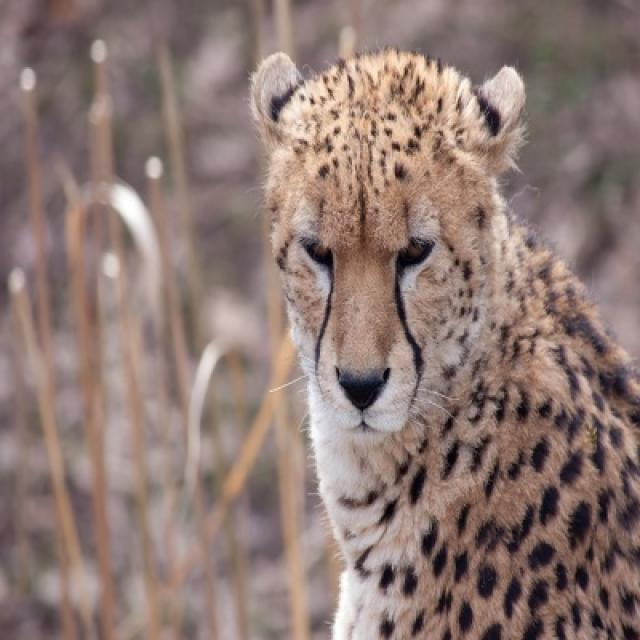Cheetah: (246, 48, 638, 638)
